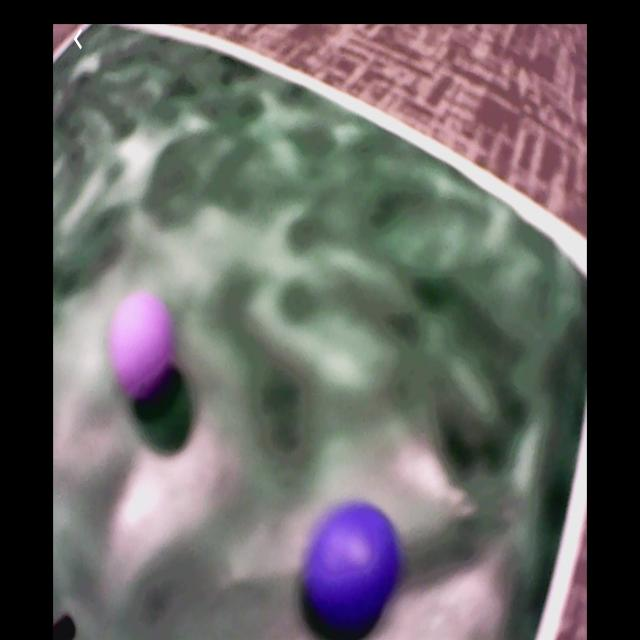ball: (304, 503, 400, 636), (111, 294, 172, 397)
